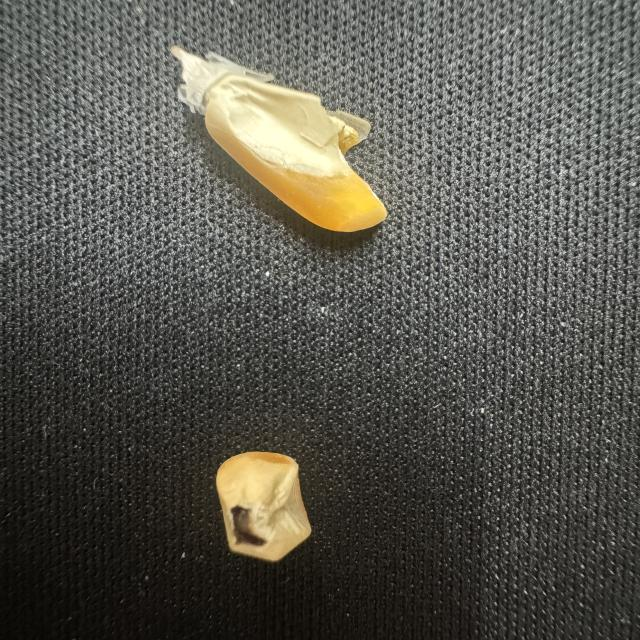Bad-Seed: (164, 36, 400, 245), (208, 444, 324, 569)
